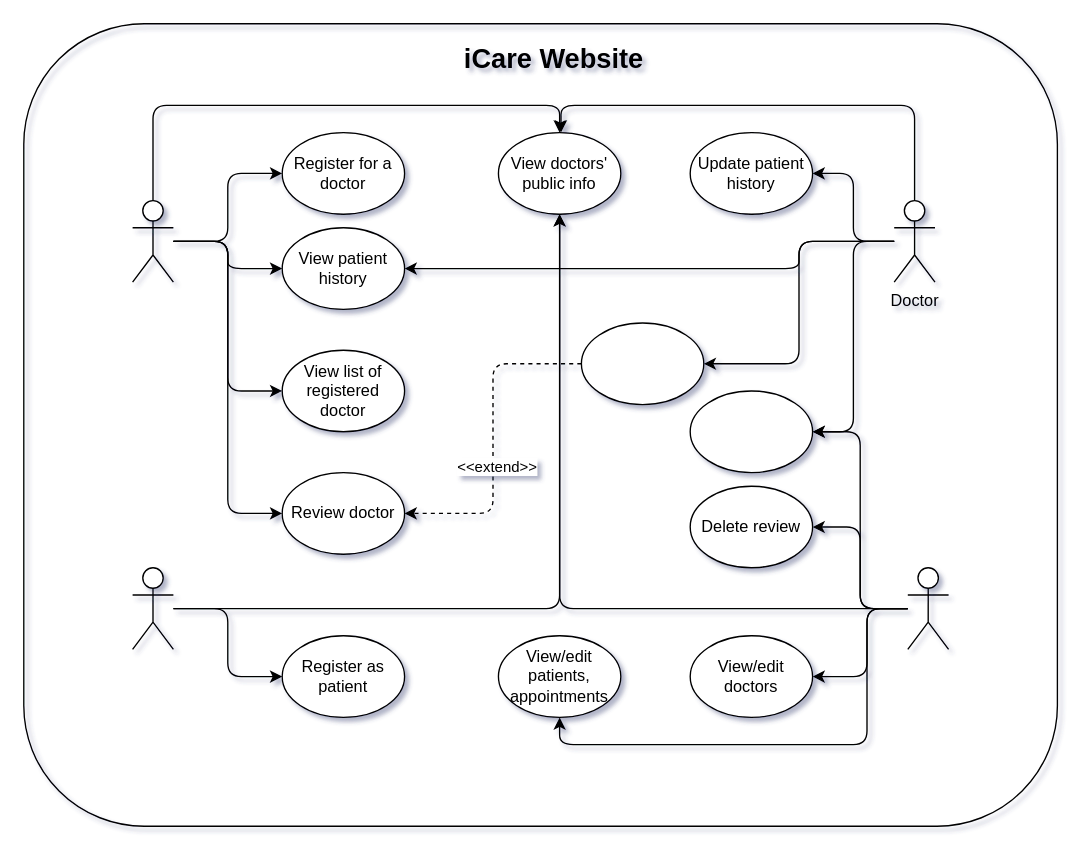
Image size: 1089x858. Some labels were removed from this diagram. Each missing label, with the box of its shape:
Admin: (906, 566, 949, 649)
Answer review: (580, 322, 704, 405)
Guests: (131, 566, 173, 649)
Patient: (131, 199, 173, 282)
View/edit list of doctor's patients: (689, 390, 813, 473)
